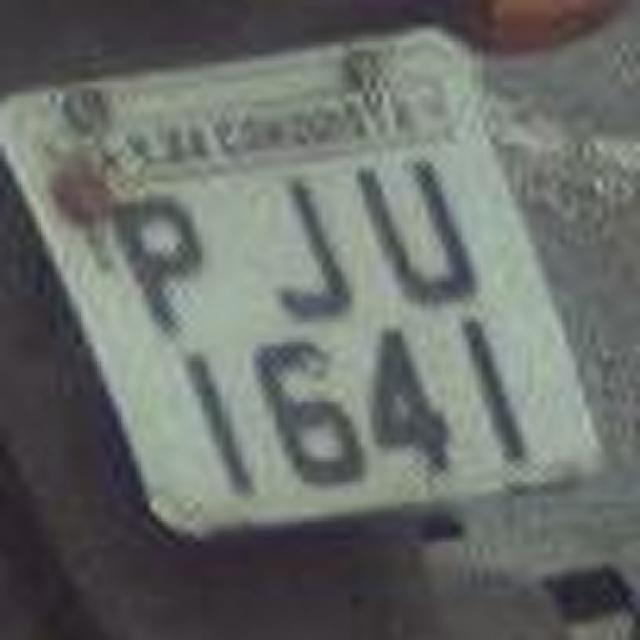1: (444, 304, 544, 471), (172, 349, 252, 496)
4: (348, 308, 468, 492)
6: (236, 315, 372, 500)
P: (104, 185, 224, 340)
U: (345, 140, 500, 315)
